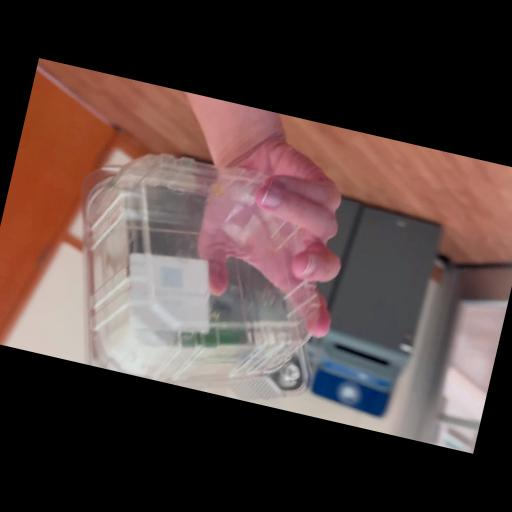small_plastic_container: (44, 132, 348, 412)
